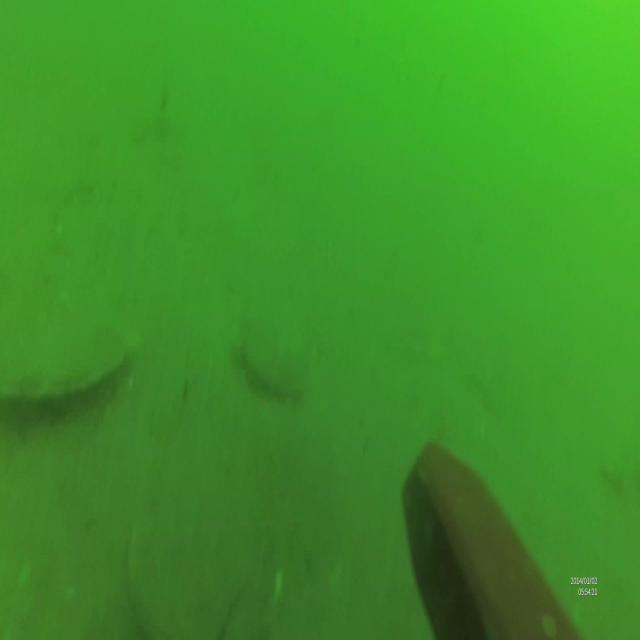scallop: (124, 510, 238, 640), (0, 306, 129, 409)
